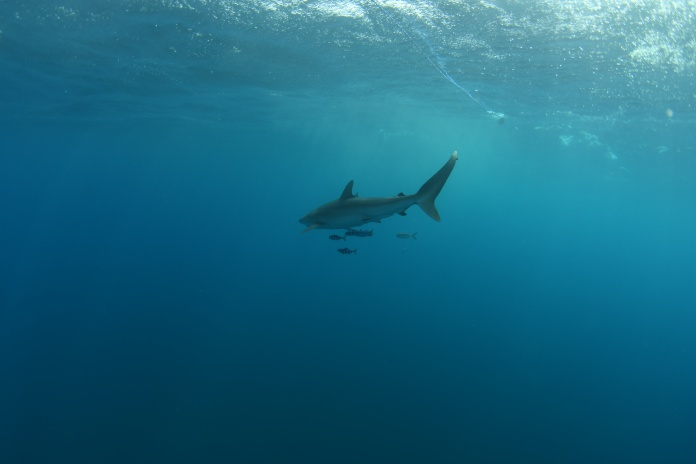Sedoso: (288, 147, 469, 242)
